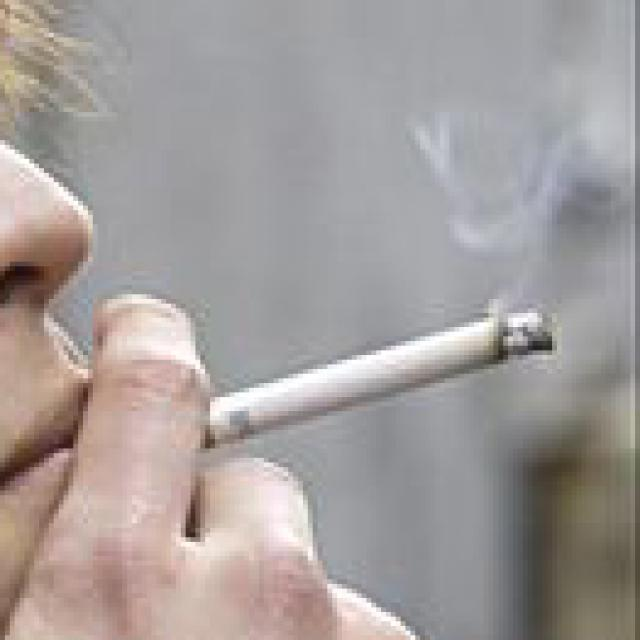smoking: (200, 306, 554, 451)
